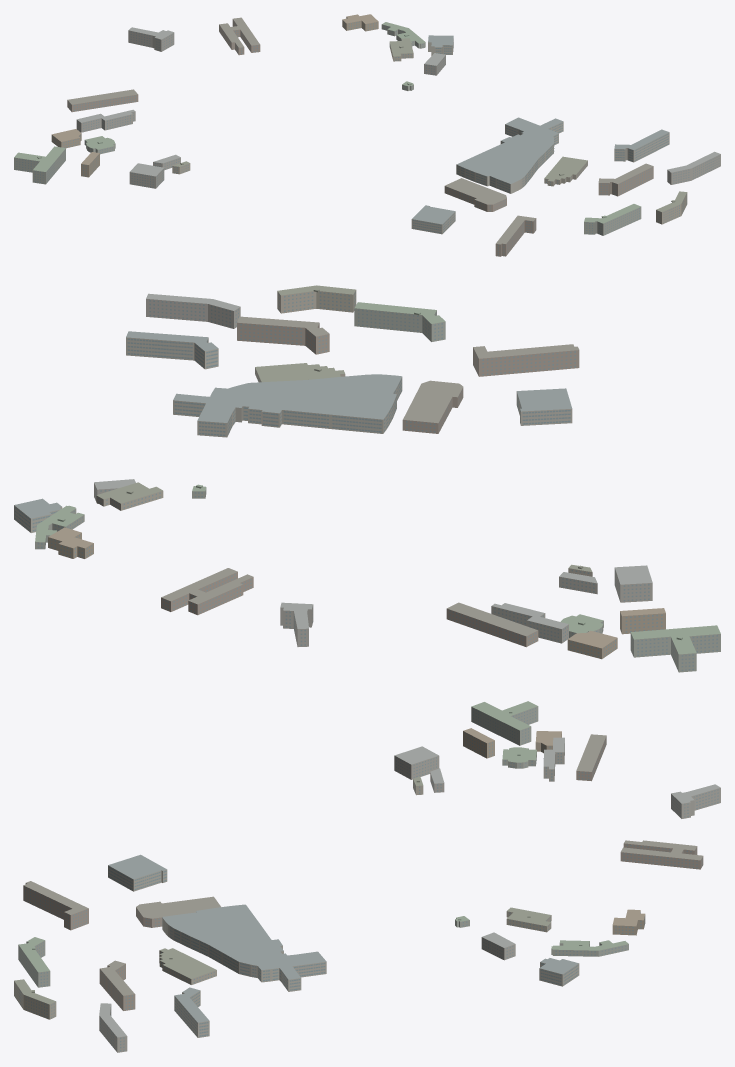
3 renders of one model, top to bottom at view 1: azimuth 30°, elevation 25°; view 2: azimuth 150°, elevation 25°; view 3: azimuth 270°, elevation 25°, orthographic. The views are drawn at different scales.
Parts seen in each view (by area): view 1: context-2, context-1, context-5, context-3, context-0, context-4; view 2: context-2, context-1, context-5, context-3, context-0, context-4; view 3: context-2, context-1, context-3, context-5, context-0, context-4.
Part boxes in pixels (x1,y1,x2,y2): context-2: [411, 35, 669, 234]; context-1: [67, 17, 653, 256]; context-5: [76, 27, 720, 188]; context-3: [14, 22, 641, 235]; context-0: [172, 38, 687, 224]; context-4: [51, 14, 378, 177]; context-2: [14, 331, 572, 532]; context-1: [161, 316, 579, 647]; context-5: [94, 293, 652, 646]; context-3: [35, 302, 720, 672]; context-0: [96, 285, 592, 576]; context-4: [48, 527, 665, 659]; context-2: [108, 854, 579, 1037]; context-1: [23, 734, 703, 1010]; context-3: [18, 701, 628, 987]; context-5: [99, 737, 720, 1052]; context-0: [14, 776, 551, 1019]; context-4: [463, 728, 645, 935].
Size of the model in its own units: 711 by 60.74 by 649.
